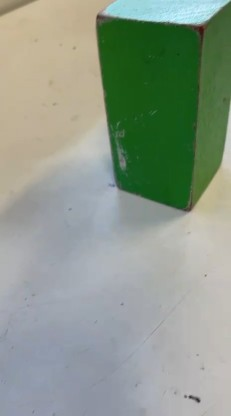green: (104, 3, 223, 181)
